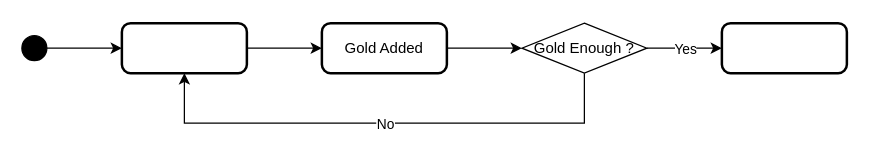
The diagram is 870 pixels wide and 155 high, and some of its shapes have lost their labels. The shapes that lost their labels are listed below. From the top down, each one's box as (x1, y1, x2, y2) in pixels, then its label:
(120, 21, 248, 74): Tap Coin
(720, 21, 848, 74): Open New Resource
